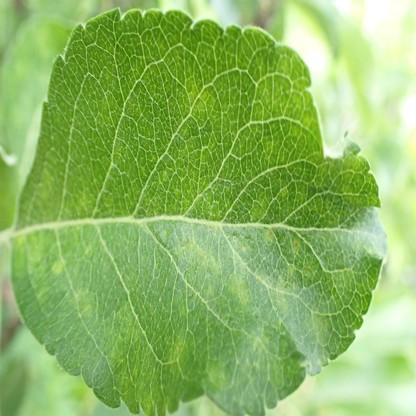scab: (10, 226, 354, 416)
